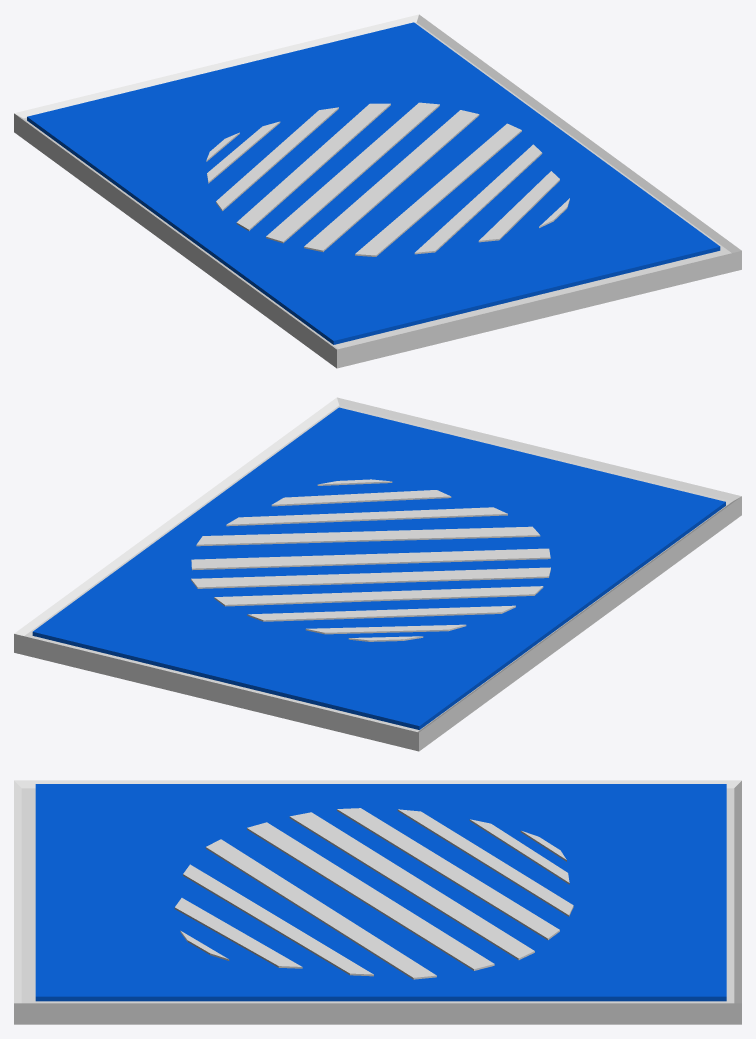
File: blend4.gltf
The picture shows the model from 3 angles, top to bottom: view 1: azimuth 30°, elevation 25°; view 2: azimuth 150°, elevation 25°; view 3: azimuth 270°, elevation 25°; orthographic projection. The views are drawn at different scales.
Parts seen in each view (by area): view 1: Cube.001, Cube, Cube.021, Cube.012, Cube.020, Cube.017, Cube.019, Cube.016, Cube.018, Cube.015; view 2: Cube.001, Cube, Cube.021, Cube.012, Cube.020, Cube.017, Cube.019, Cube.016, Cube.018, Cube.015; view 3: Cube.001, Cube, Cube.021, Cube.012, Cube.020, Cube.017, Cube.019, Cube.016, Cube.018, Cube.015.
Part boxes in pixels (bbox=[...]): Cube.001: bbox=[27, 22, 720, 344]; Cube: bbox=[14, 14, 741, 368]; Cube.021: bbox=[304, 110, 479, 251]; Cube.012: bbox=[266, 102, 439, 243]; Cube.020: bbox=[355, 123, 521, 256]; Cube.017: bbox=[236, 103, 390, 230]; Cube.019: bbox=[414, 144, 542, 254]; Cube.016: bbox=[216, 107, 338, 210]; Cube.018: bbox=[478, 171, 559, 242]; Cube.015: bbox=[207, 121, 280, 183]; Cube.001: bbox=[32, 407, 725, 729]; Cube: bbox=[14, 397, 741, 751]; Cube.021: bbox=[191, 548, 550, 570]; Cube.012: bbox=[191, 567, 550, 588]; Cube.020: bbox=[196, 526, 540, 546]; Cube.017: bbox=[214, 586, 543, 606]; Cube.019: bbox=[226, 507, 507, 526]; Cube.016: bbox=[247, 605, 515, 621]; Cube.018: bbox=[271, 490, 451, 506]; Cube.015: bbox=[305, 624, 466, 634]; Cube.001: bbox=[35, 784, 726, 1001]; Cube: bbox=[14, 780, 741, 1024]; Cube.021: bbox=[247, 822, 494, 970]; Cube.012: bbox=[289, 812, 534, 959]; Cube.020: bbox=[205, 839, 436, 979]; Cube.017: bbox=[337, 808, 559, 939]; Cube.019: bbox=[183, 864, 373, 976]; Cube.016: bbox=[397, 809, 573, 916]; Cube.018: bbox=[174, 898, 302, 968]; Cube.015: bbox=[469, 819, 569, 884].
Size of the model in its own units: 1.81 by 0.0877 by 2.5.
